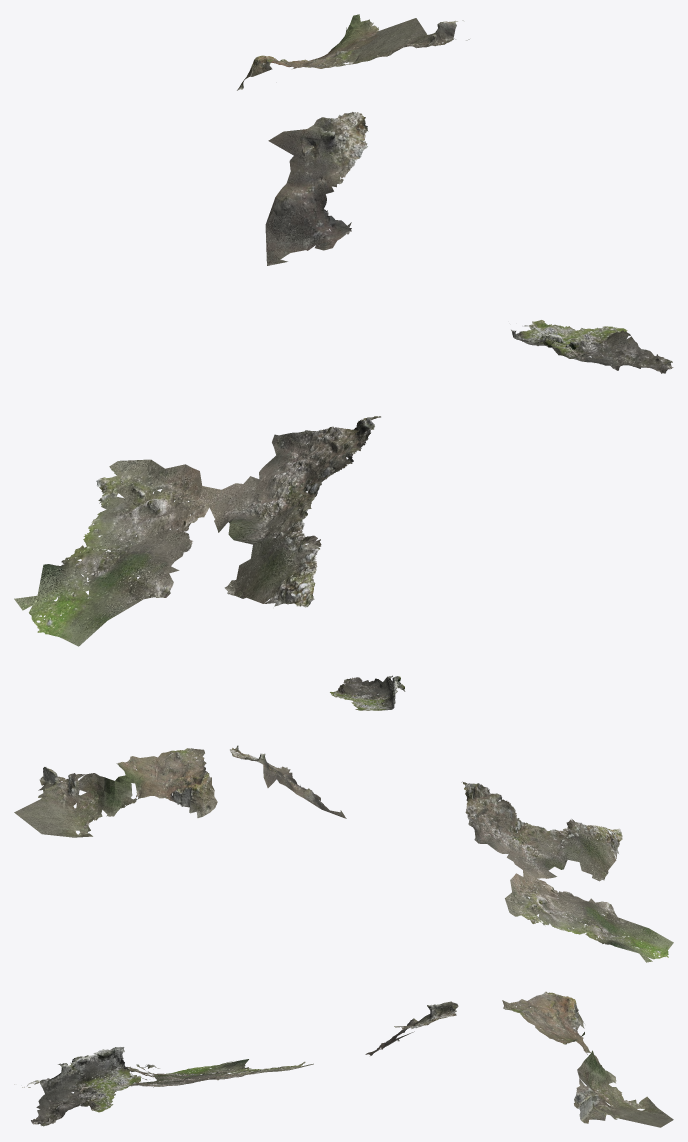
The picture shows the model from 3 angles, top to bottom: view 1: azimuth 30°, elevation 25°; view 2: azimuth 150°, elevation 25°; view 3: azimuth 270°, elevation 25°; orthographic projection. The views are drawn at different scales.
Bounding box in the file's own units: 93.07 × 42.11 × 94.22.
Materials: 1 (1 with a texture image).
